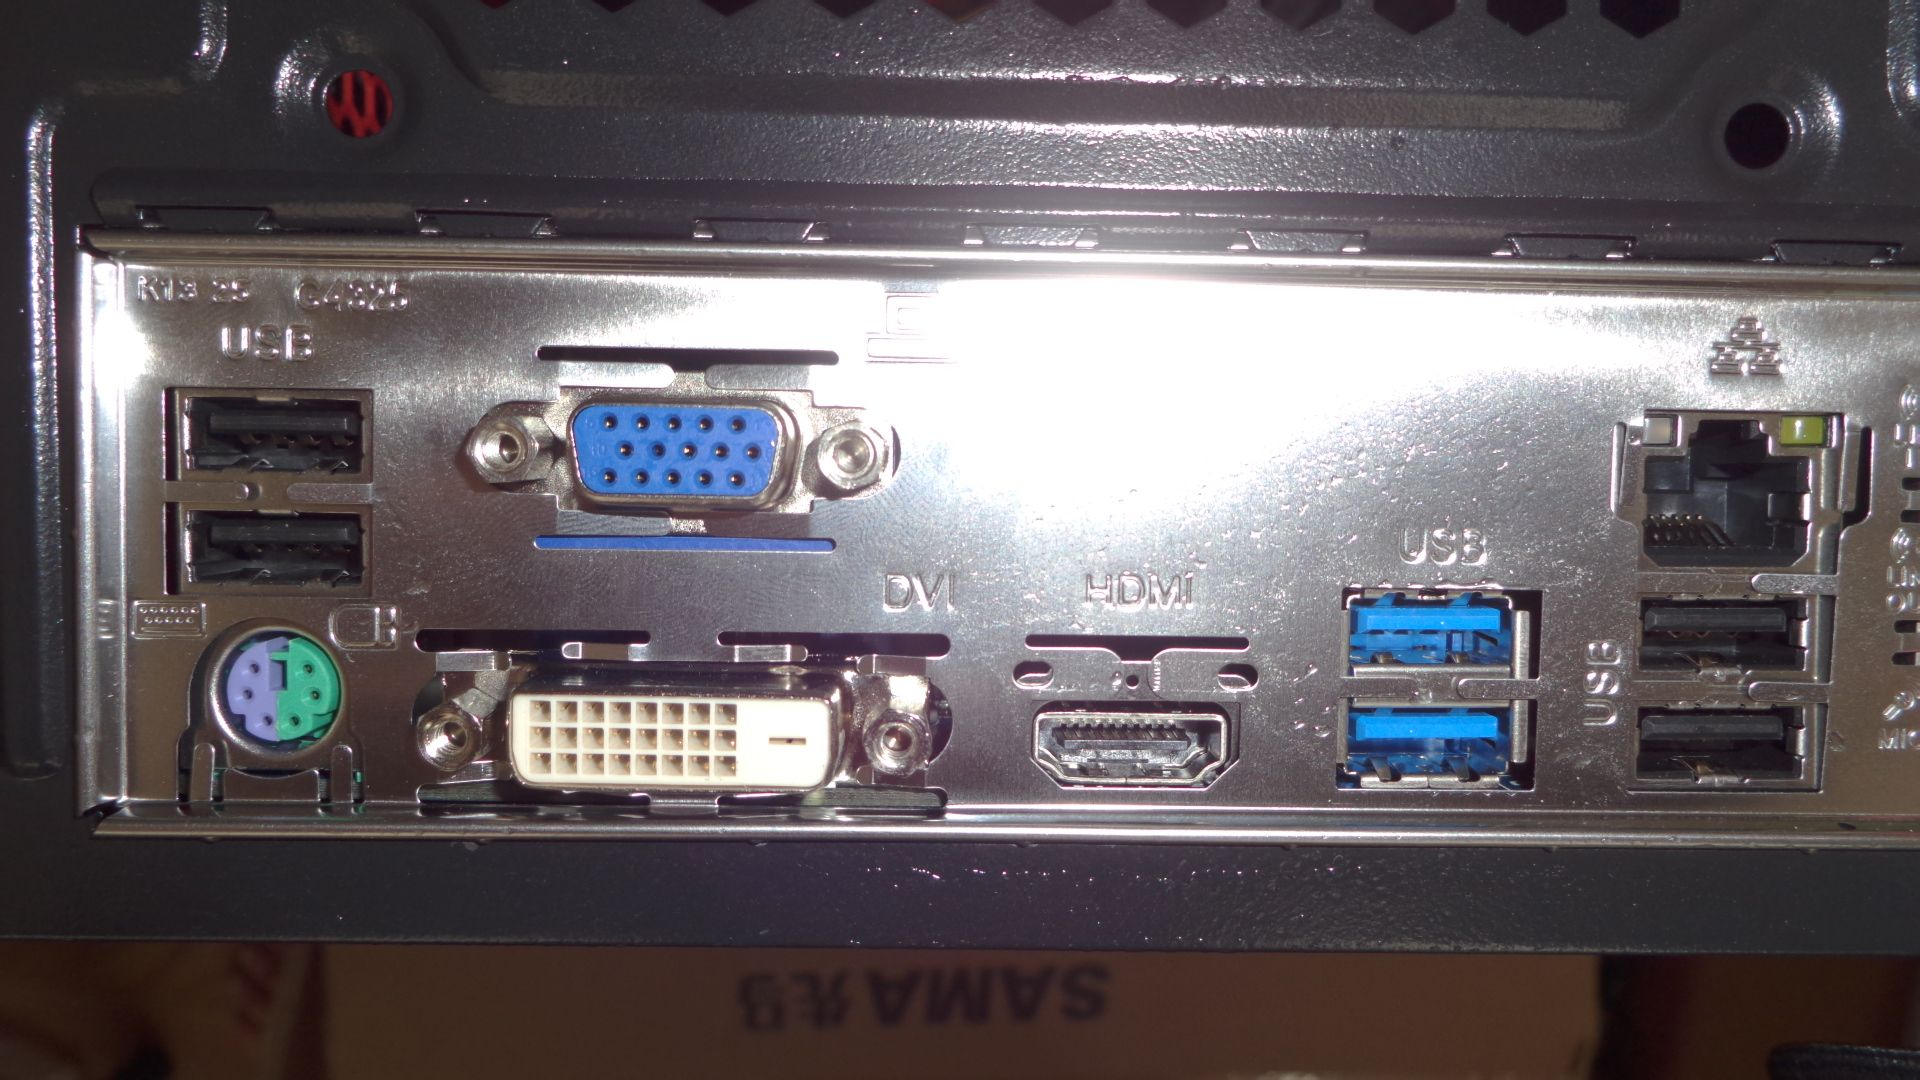DVI: (505, 688, 843, 793)
Ethernet: (1629, 411, 1834, 580)
HDMI: (1029, 694, 1247, 789)
USB: (1325, 688, 1534, 795), (1331, 580, 1535, 686), (161, 386, 375, 485), (1633, 695, 1820, 802), (167, 506, 376, 585)
VGA: (559, 394, 793, 505)
